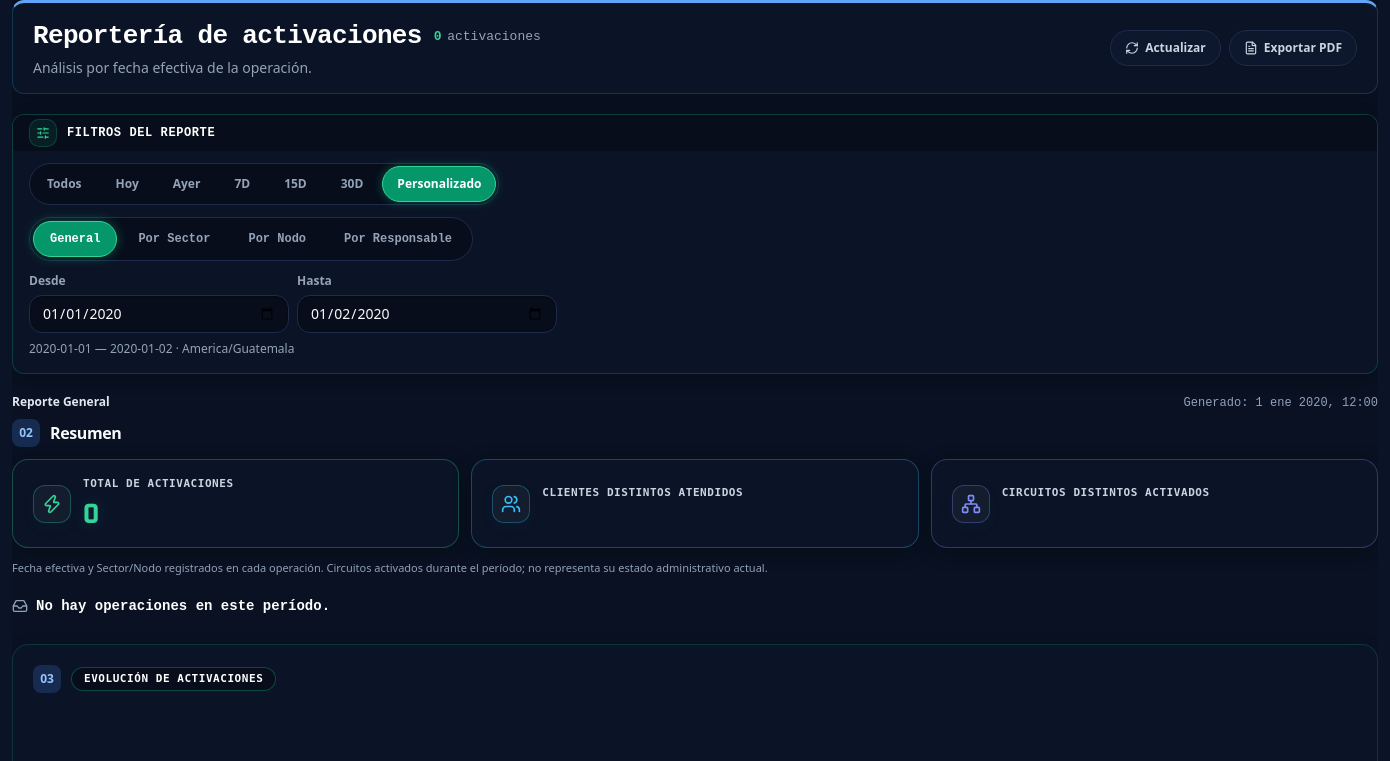
Test: PDF estadístico FMS › muestra el error conservando reporte y filtros
Step 1. Click the button "Exportar PDF" → (1293, 48), box [1229,30,1357,66]
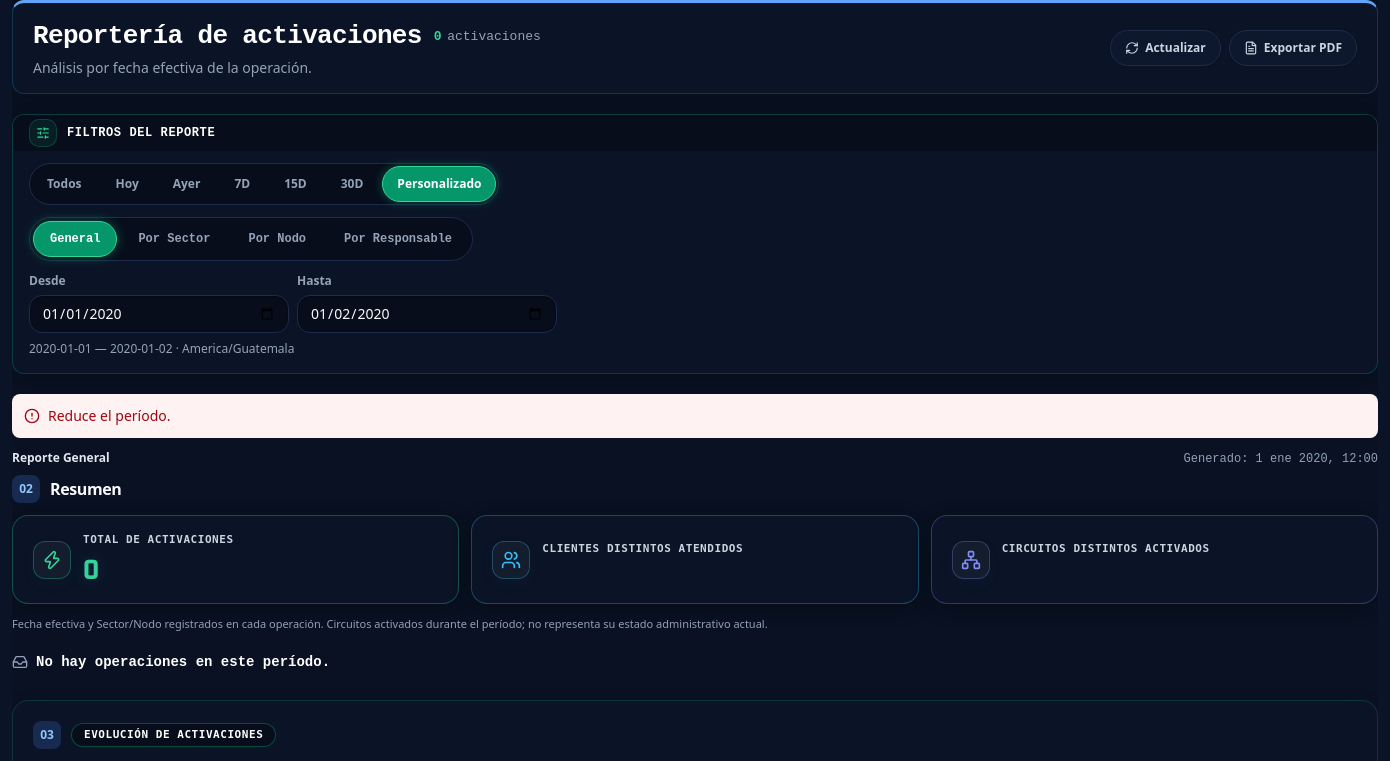
Expected: the heading "Reporte General" is shown, [12,450,110,466]
Result: the message "Reduce el período." is shown at [12,394,1378,438]
